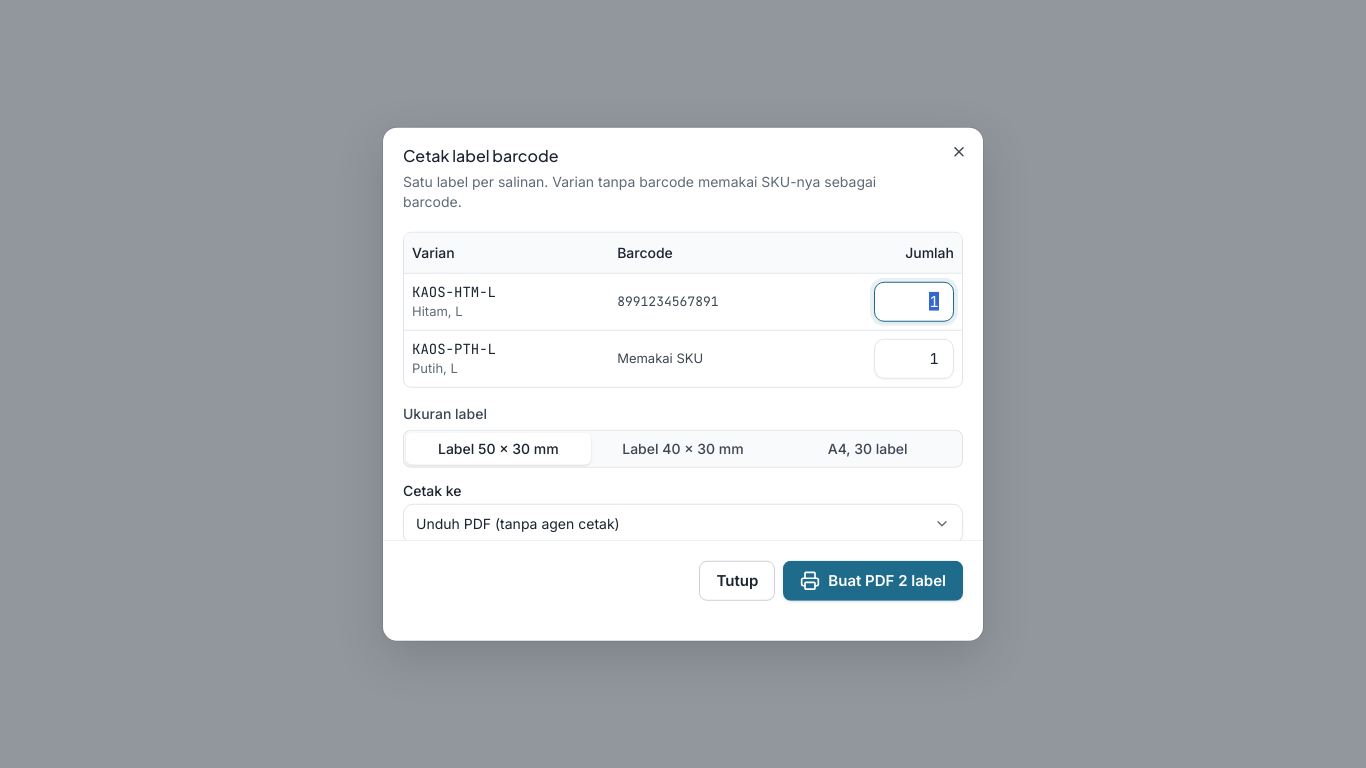
Scenario: Cetak label barcode › asks for readable counts within 2,000 labels before asking the api
Replace the text in the field named "Jumlah label KAOS-HTM-L" with "2,5" at (914, 301), box [874, 281, 954, 321]
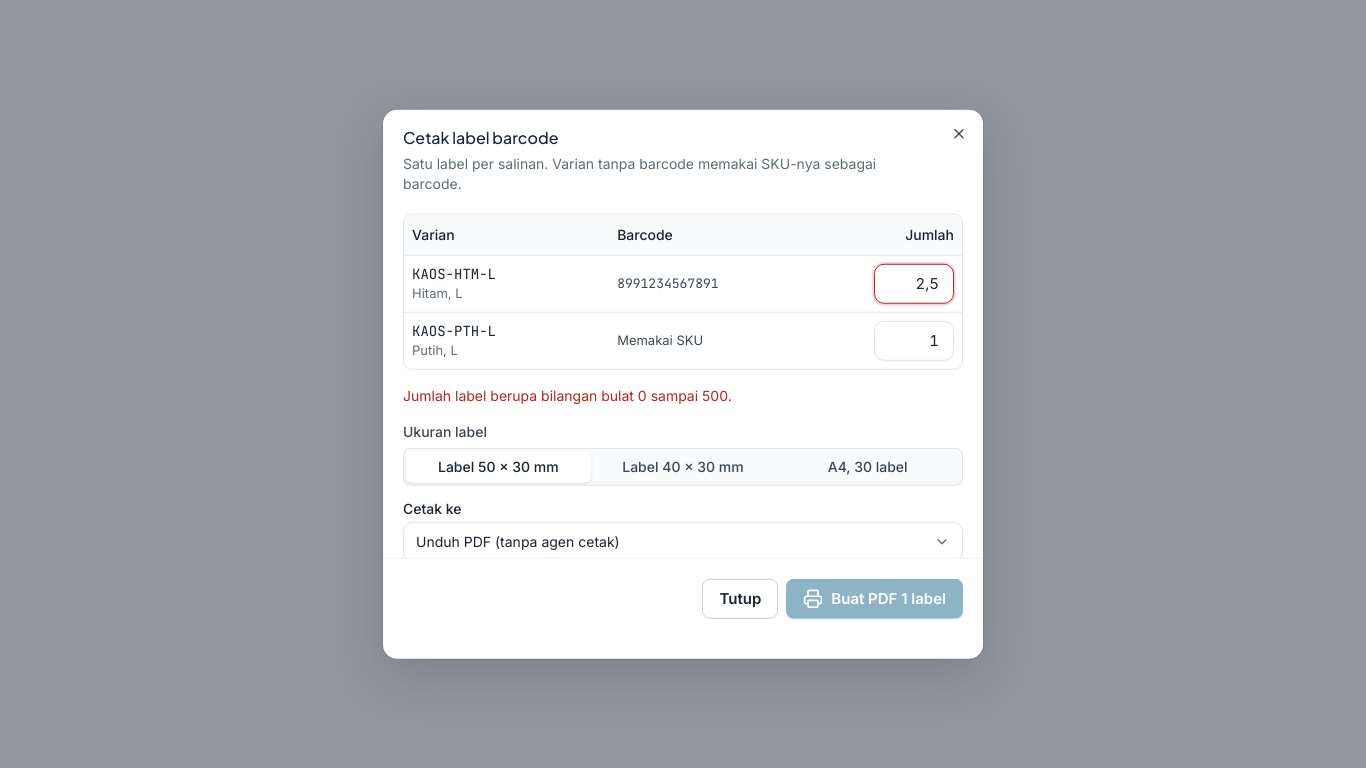
Now the message reads "Jumlah label berupa bilangan bulat 0 sampai 500.", box [403, 386, 732, 403]
Now the button "Buat PDF 1 label" is disabled, box [786, 578, 963, 618]
Clear the field named "Jumlah label KAOS-HTM-L" at (914, 283), box [874, 263, 954, 303]
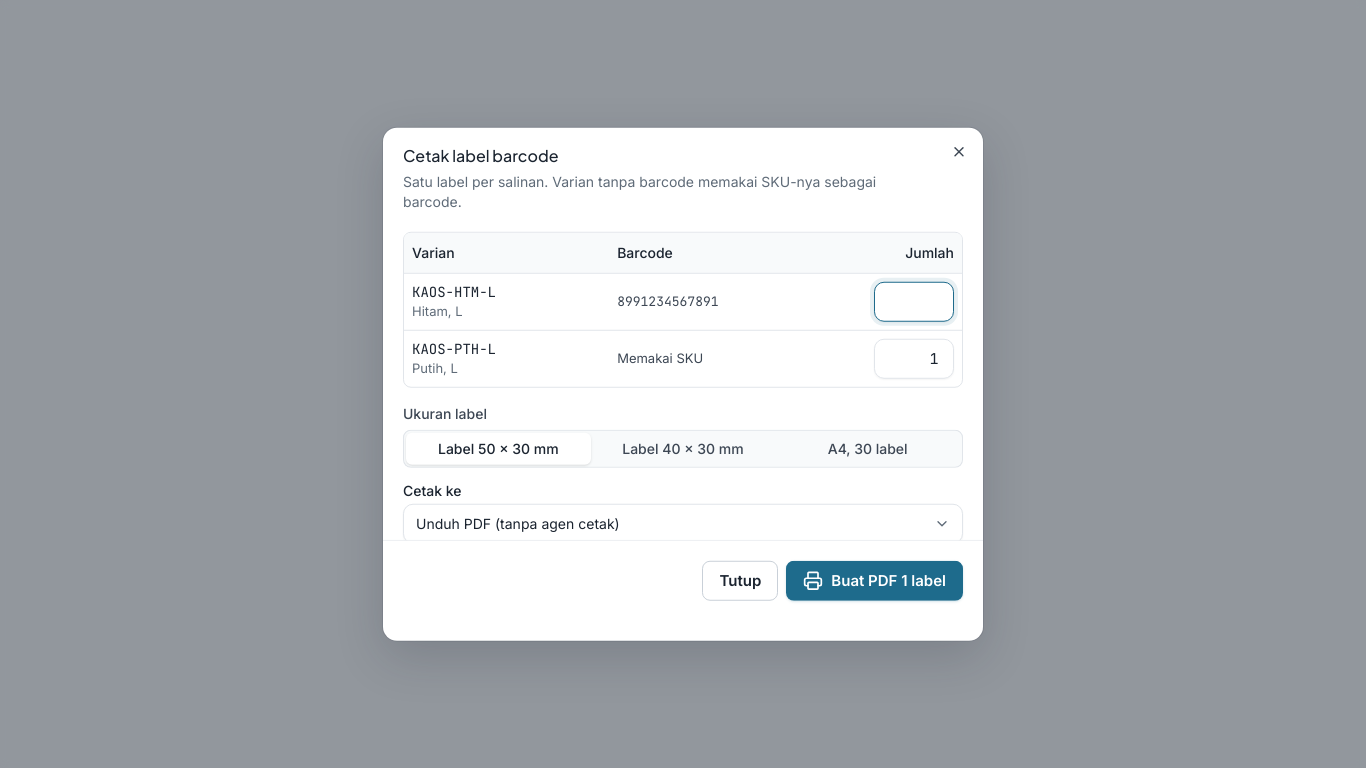
Clear the field named "Jumlah label KAOS-PTH-L" at (914, 358), box [874, 338, 954, 378]
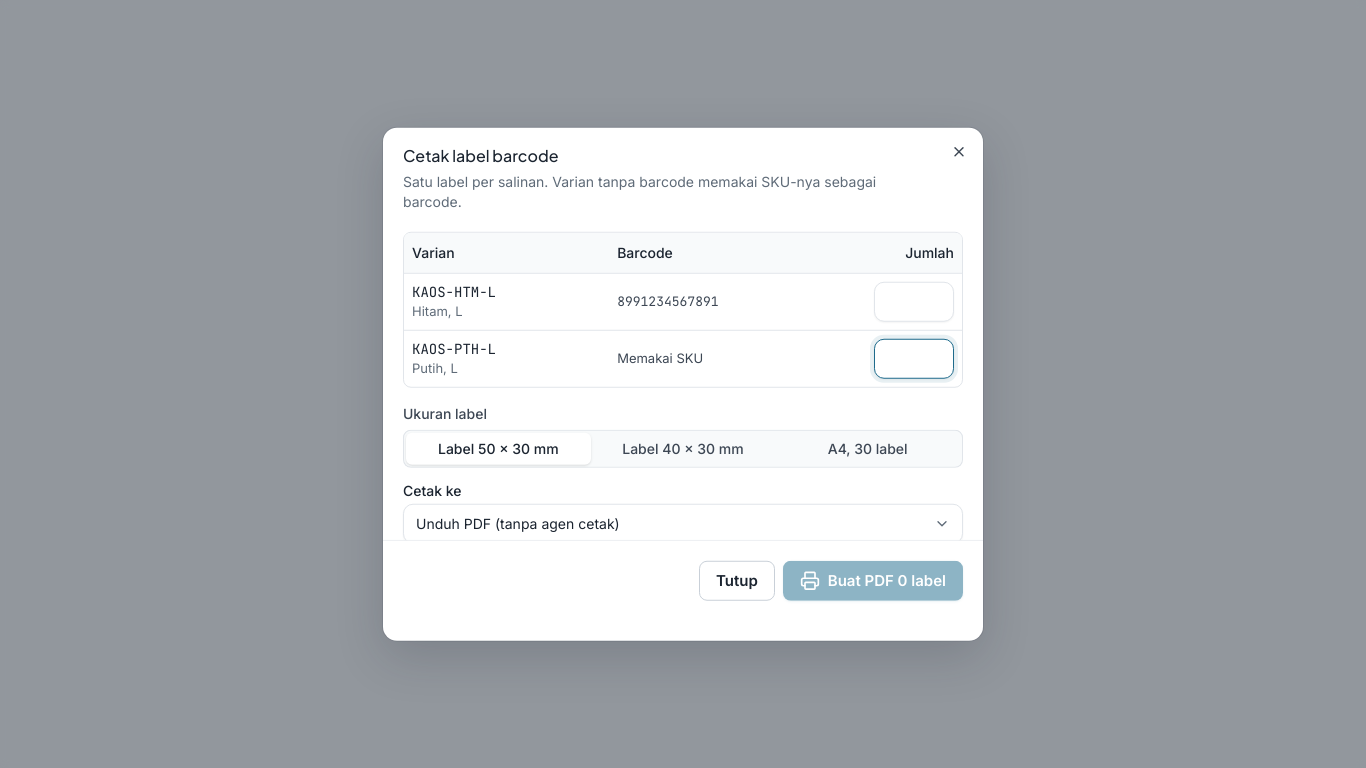
Now the button "Buat PDF 0 label" is disabled, box [783, 560, 963, 600]
